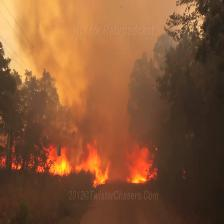fire: (2, 117, 183, 200)
smoke: (3, 0, 176, 115)
